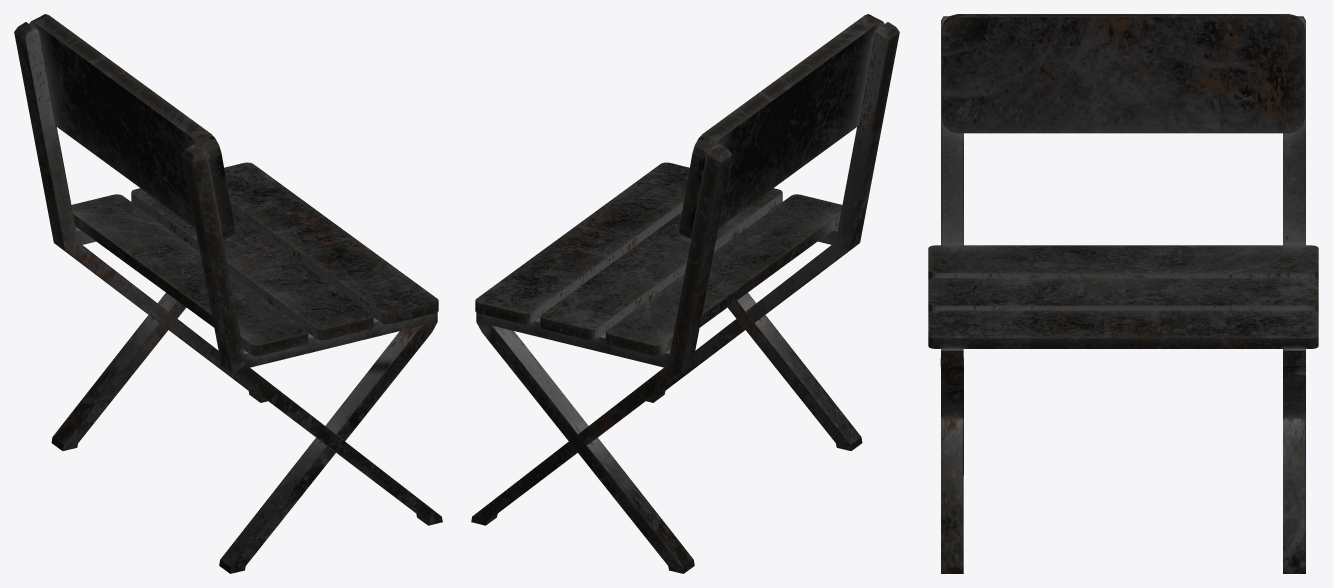
Rendered from Ext_Silla_V3.glb.
The picture shows the model from 3 angles, left to right: view 1: azimuth 30°, elevation 25°; view 2: azimuth 150°, elevation 25°; view 3: azimuth 270°, elevation 25°; orthographic projection. The views are drawn at different scales.
Visible parts, largest first — view 1: Ext_Silla_V3; view 2: Ext_Silla_V3; view 3: Ext_Silla_V3.
Boxes of the visible parts, x1,y1,x2,y2 form: Ext_Silla_V3: [14, 14, 442, 573]; Ext_Silla_V3: [471, 14, 899, 573]; Ext_Silla_V3: [928, 14, 1318, 573].
Size of the model in its own units: 0.5955 by 0.9944 by 0.7894.
Materials: 1 (1 with a texture image).
